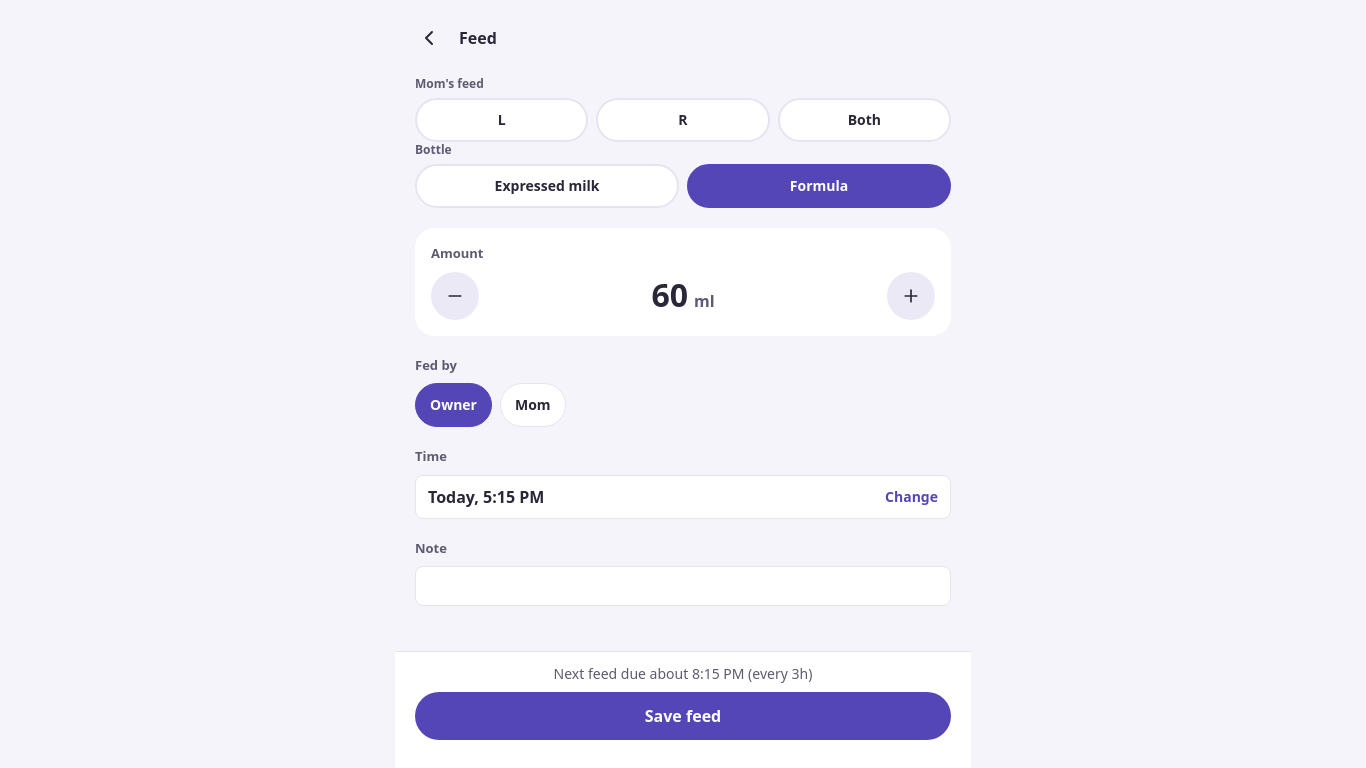
Scenario: bottle type shows the amount stepper and breast type shows duration
The image size is (1366, 768).
Expected: the text named "Amount (ml)" reads "60", [651,272,688,316]
Expected: the field labelled "Duration (min)" is not shown
Click the button named "Amount (ml) +10 ml". click: (911, 296)
box: [887,272,935,320]
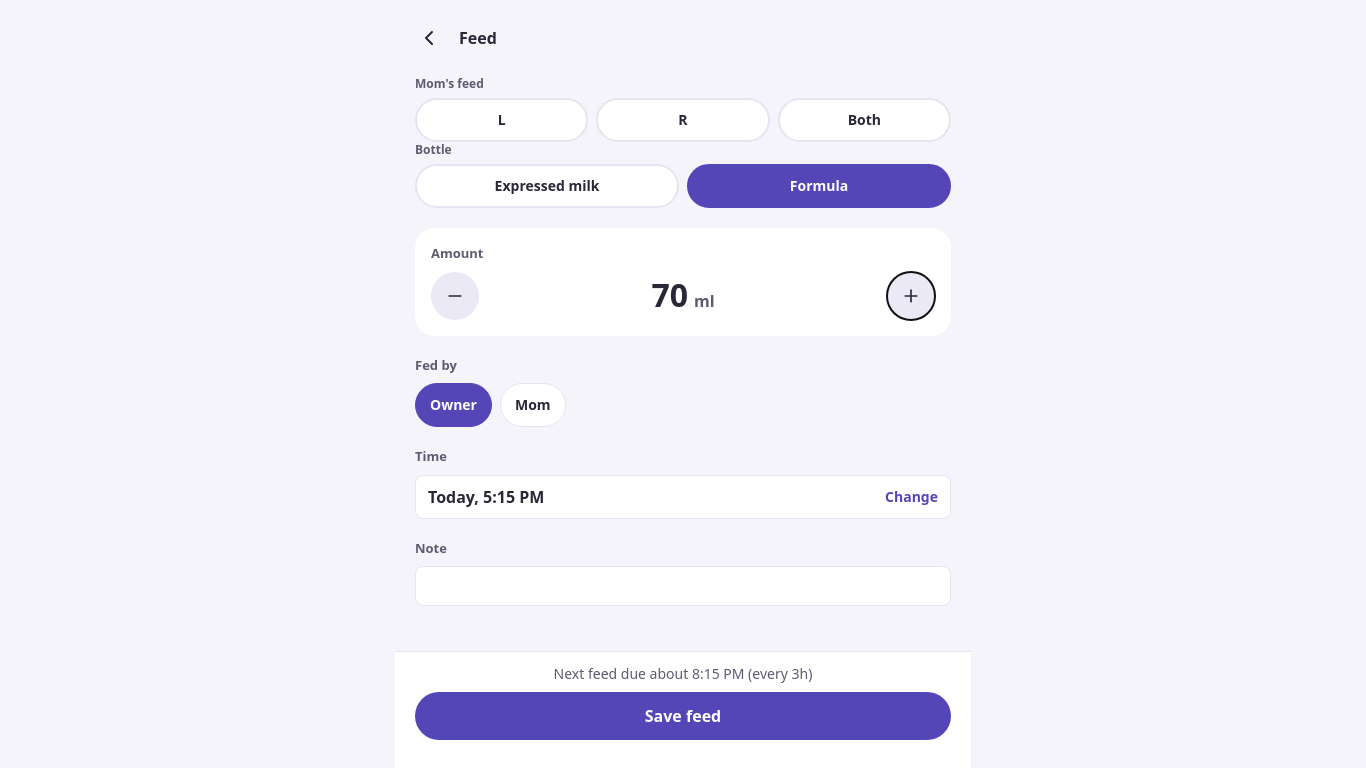
Result: the text named "Amount (ml)" reads "70" at [651,272,688,316]
Click the radio button with aria-label "Mom's feed · Both". click: (864, 120)
box: [778,98,951,142]
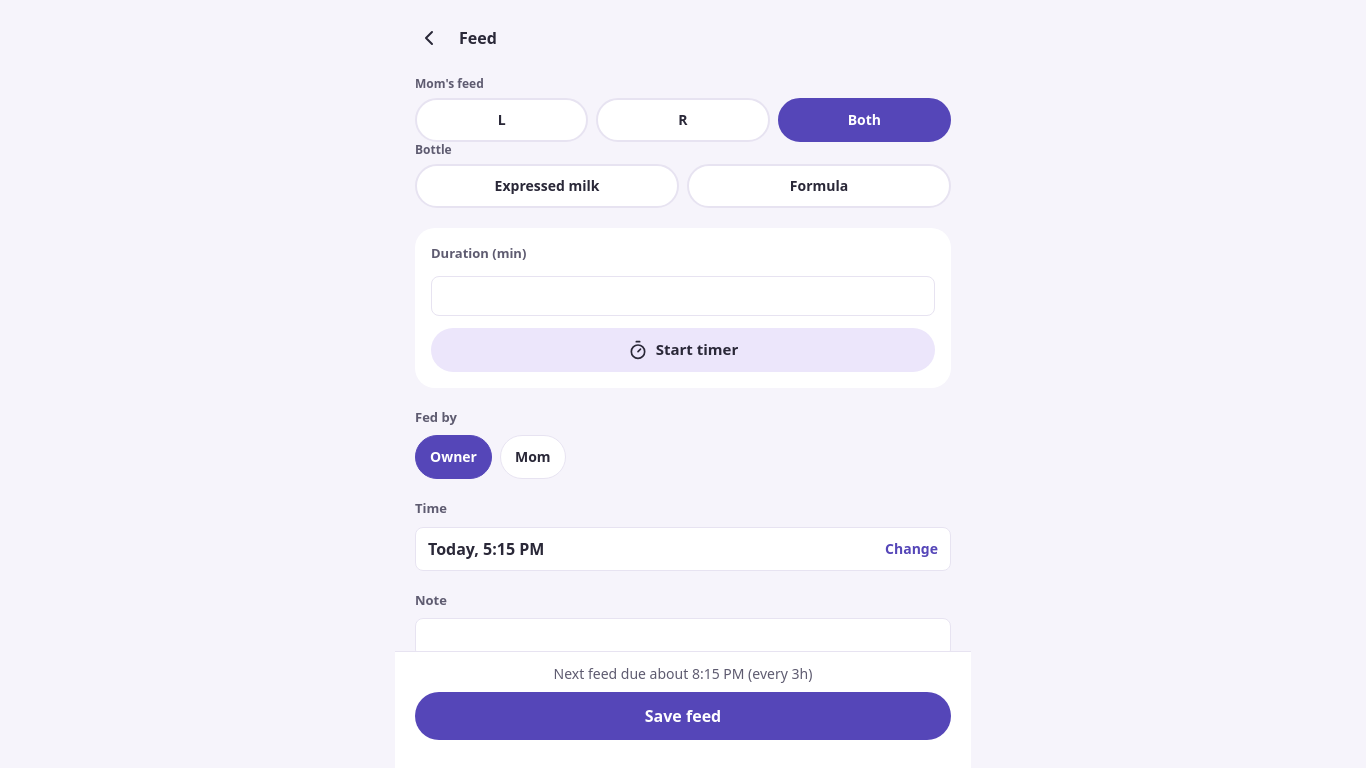
Result: the number field labelled "Duration (min)" is shown at [431,276,935,316]
